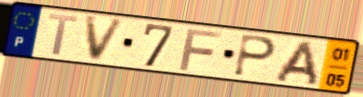7: (141, 21, 175, 68)
A: (272, 39, 321, 88)
F: (177, 26, 225, 72)
P: (231, 32, 279, 79)
T: (46, 12, 81, 57)
V: (84, 15, 129, 63)
